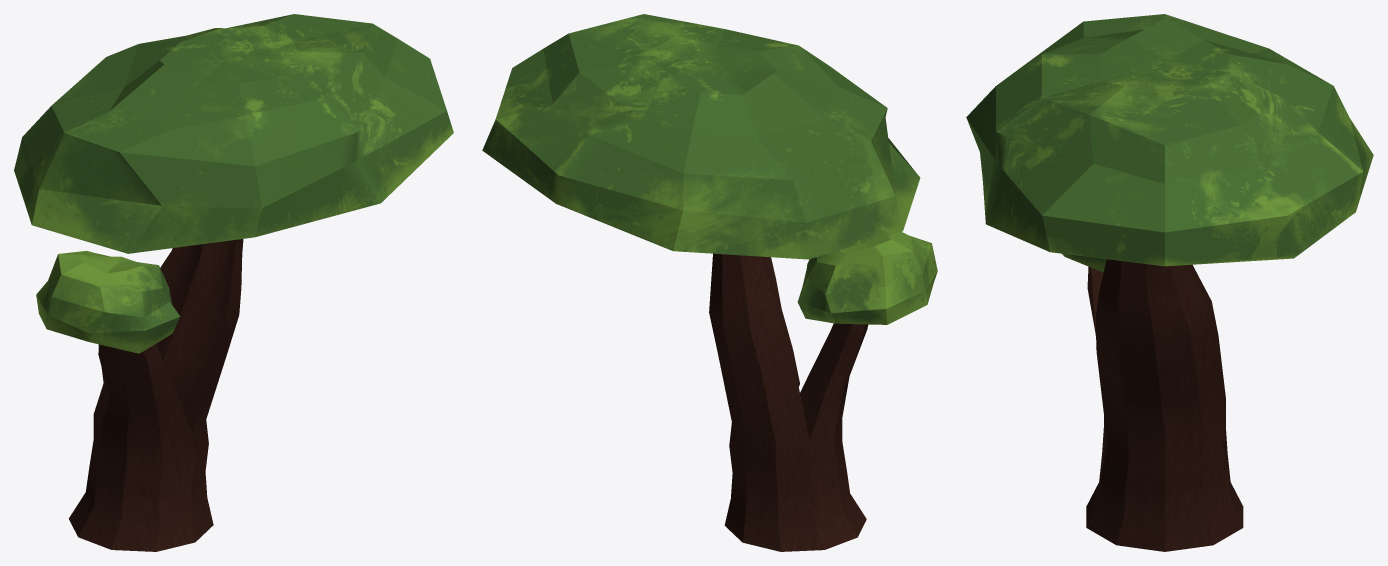
The model's file is Tree.glb.
3 views of the same model, side by side, from view 1: azimuth 30°, elevation 25°; view 2: azimuth 150°, elevation 25°; view 3: azimuth 270°, elevation 25° (orthographic). The views are drawn at different scales.
Visible parts, largest first — view 1: treeHIGH; view 2: treeHIGH; view 3: treeHIGH.
Part boxes in pixels (x1,y1,x2,y2): treeHIGH: (14,14,453,551); treeHIGH: (482,14,937,551); treeHIGH: (966,14,1373,551).
Bounding box in the file's own units: 14.84 × 15.88 × 11.48.
Materials: 1 (1 with a texture image).
